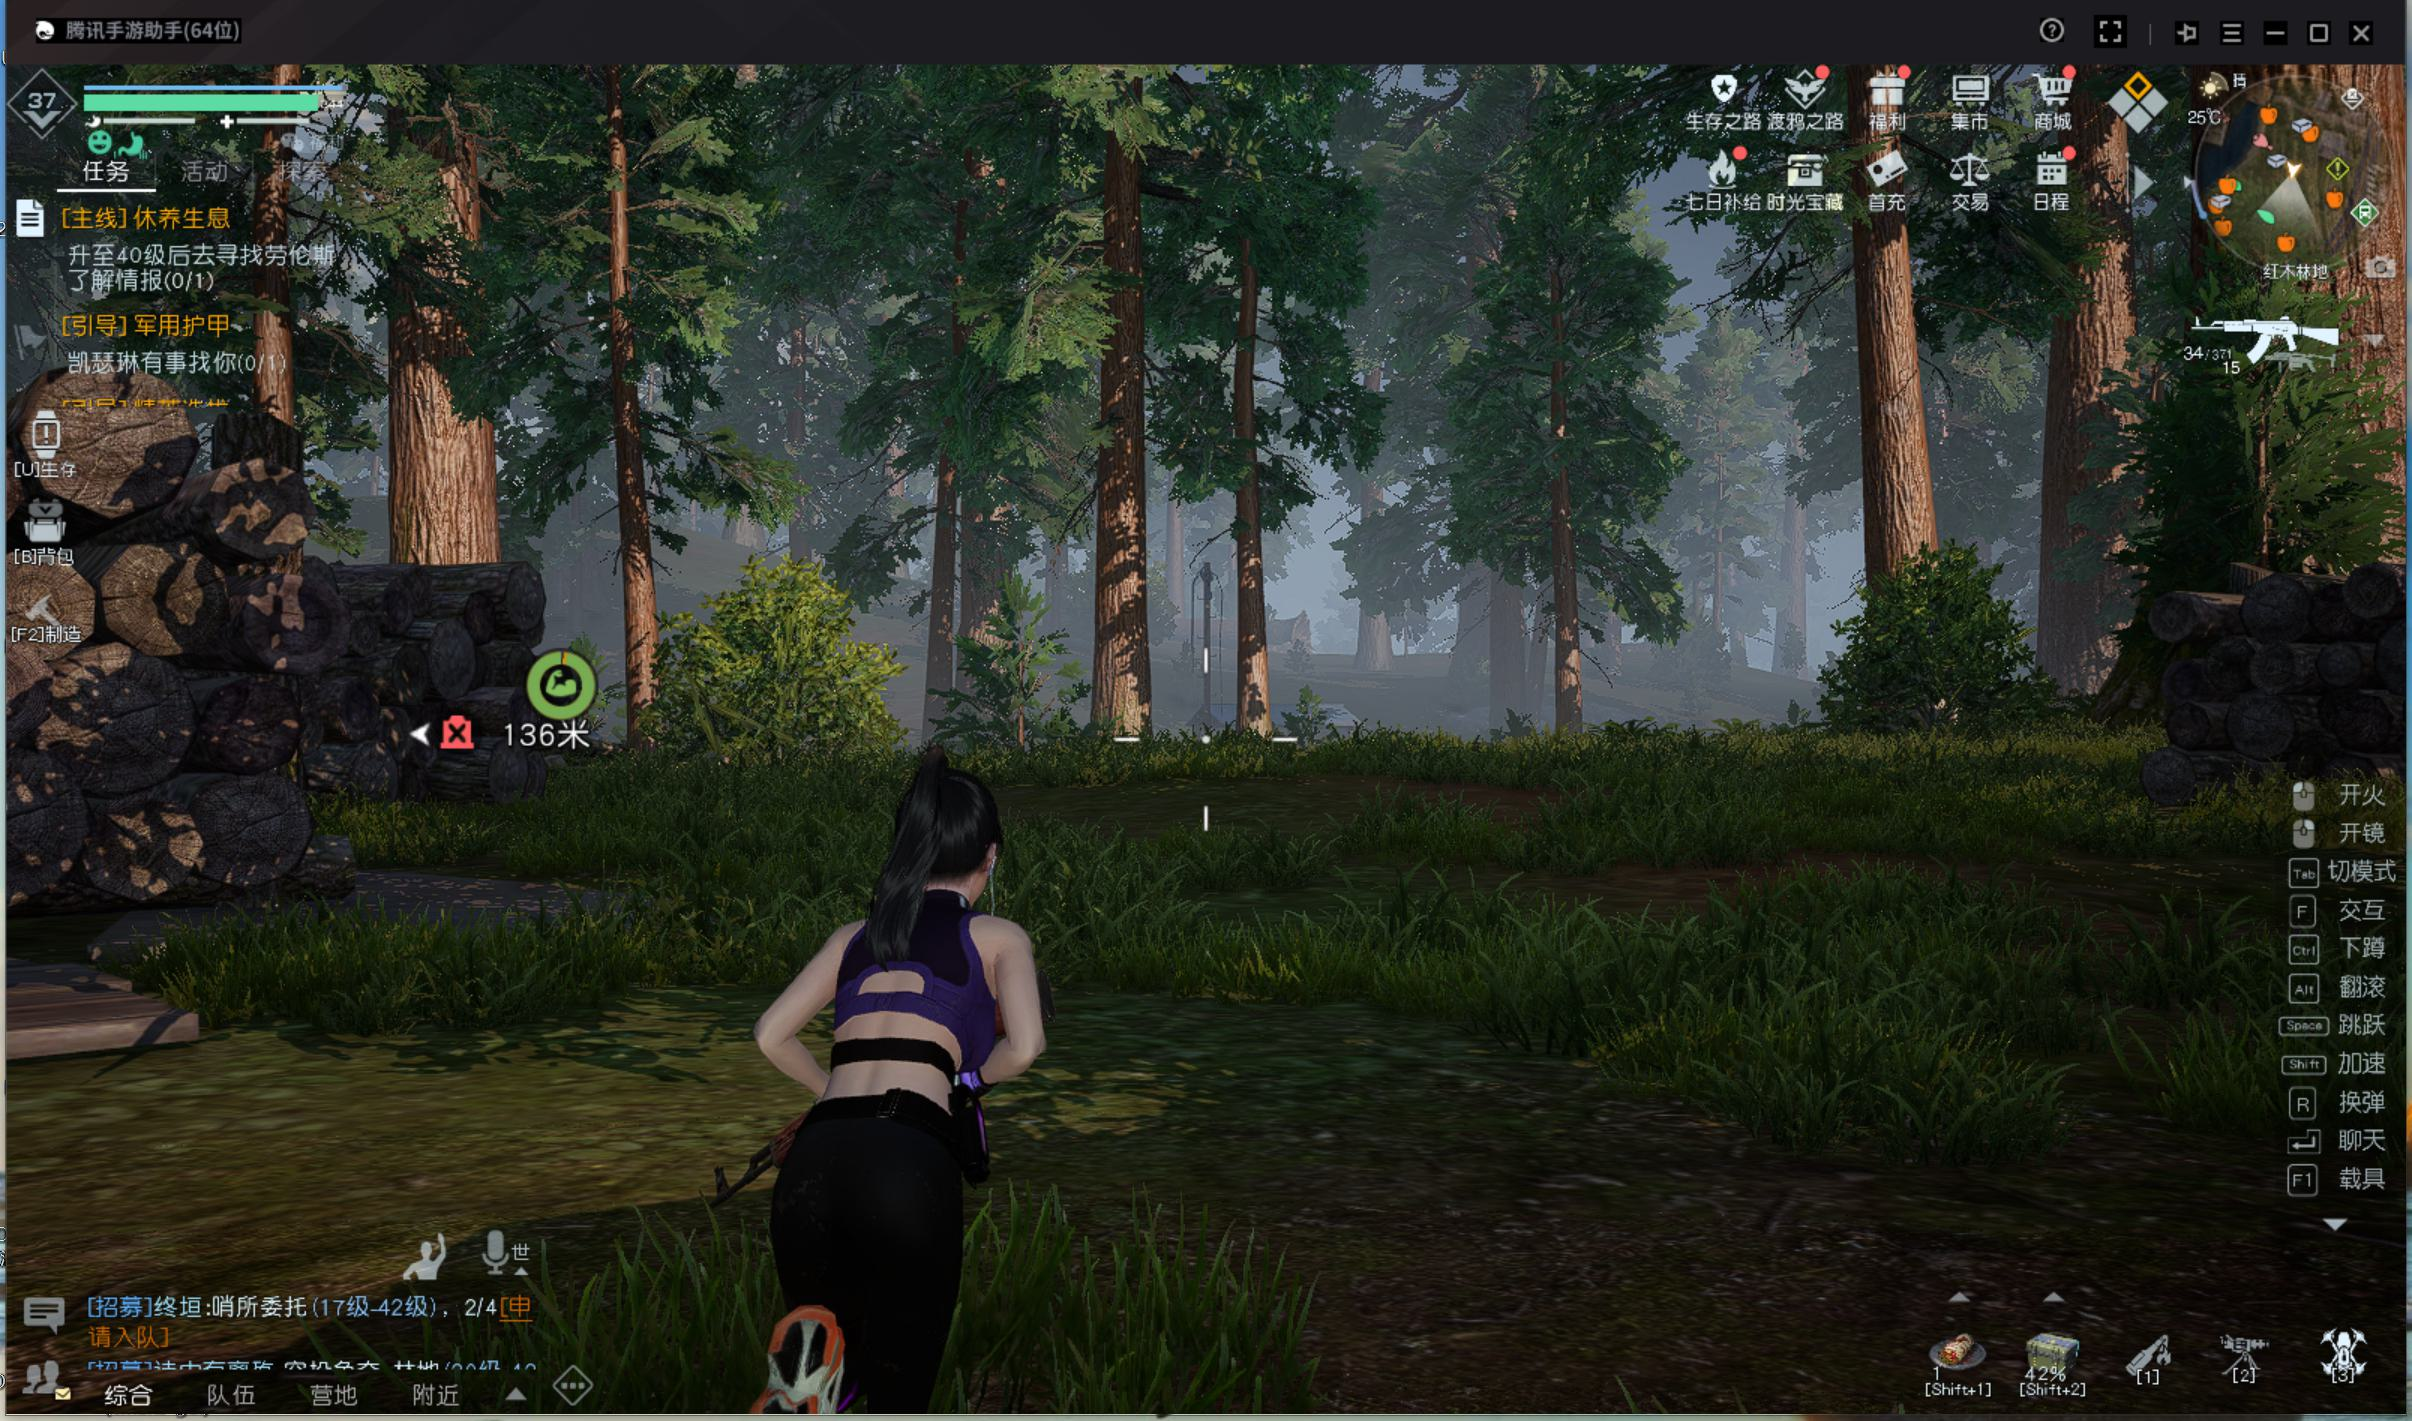tree: (592, 205, 687, 771), (1094, 354, 1160, 771), (1220, 347, 1270, 785), (1536, 347, 1587, 766), (922, 436, 954, 744)
